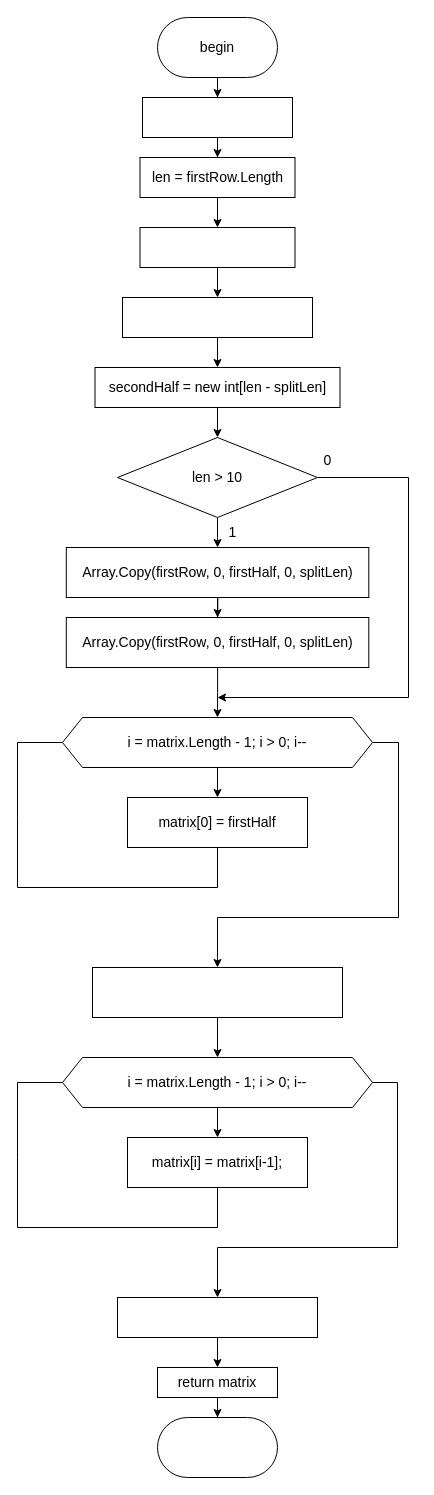
The diagram is 434 pixels wide and 1495 high, and some of its shapes have lost their labels. Here are the shapes that lost their labels. From the top down, the box of each, then its label:
(142, 96, 292, 138): firstRow = matrix[0]
(139, 226, 295, 268): splitLen = len /2
(122, 296, 312, 338): firstHalf = new int[splitLen]
(92, 966, 342, 1018): Array.Resize(ref, matrix, matrix.Length)
(116, 1296, 318, 1338): matrix[1] = secondHalf;
(156, 1416, 278, 1478): end
